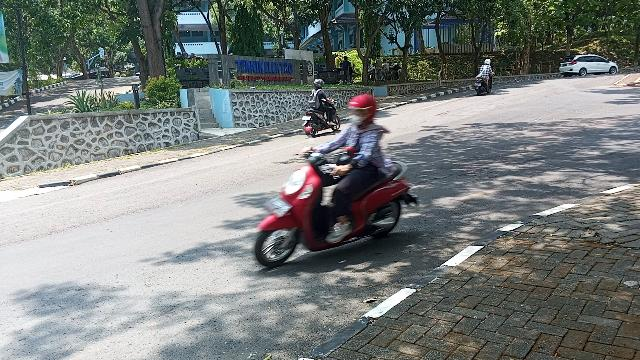helm: (351, 96, 378, 126), (315, 79, 326, 89), (486, 60, 492, 65)
motor: (256, 154, 420, 267), (304, 109, 343, 138), (476, 79, 494, 95)
